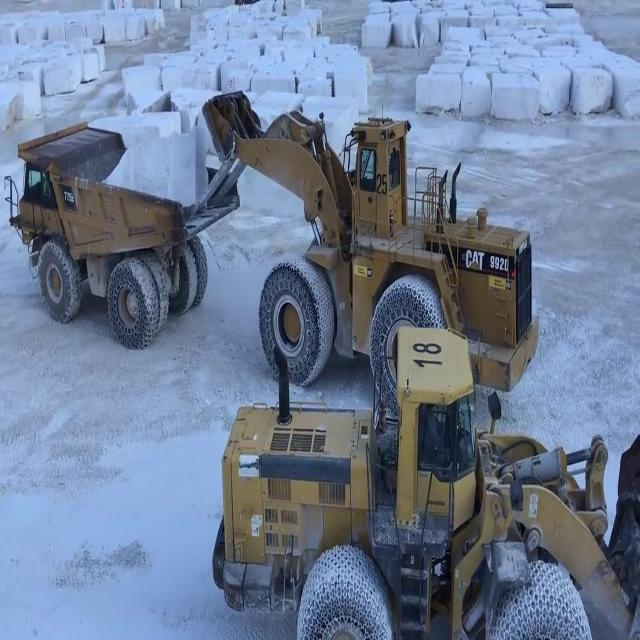Dump Truck: (3, 120, 241, 349)
Loader: (212, 326, 640, 638), (202, 89, 540, 417)
